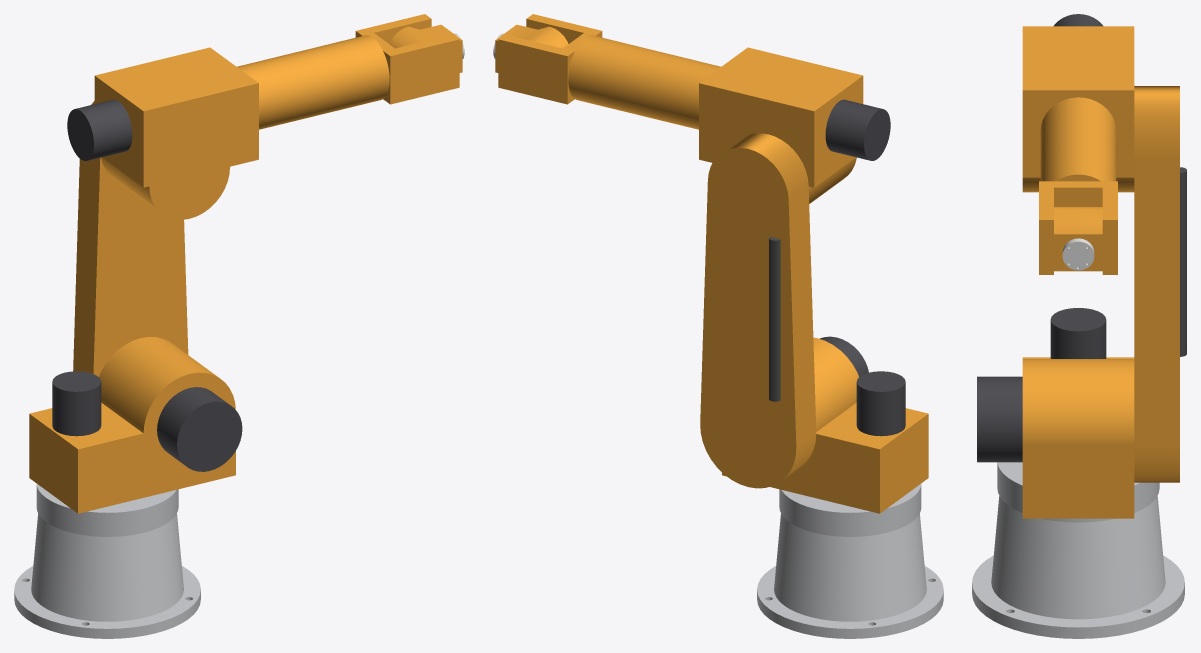
The model's file is robot_arm.glb.
The picture shows the model from 3 angles, left to right: view 1: azimuth 30°, elevation 25°; view 2: azimuth 150°, elevation 25°; view 3: azimuth 270°, elevation 25°; orthographic projection. The views are drawn at different scales.
Parts seen in each view (by area): view 1: elbow_housing, turret_casting, upper_arm, base_casting, forearm, j2_motor, wrist_fork, turret_bearing, j4_motor, j1_motor, wrist_housing; view 2: upper_arm, base_casting, elbow_housing, turret_casting, forearm, wrist_fork, turret_bearing, j4_motor, j1_motor, dress_pack, wrist_housing, j2_motor; view 3: base_casting, upper_arm, turret_casting, elbow_housing, forearm, wrist_fork, j2_motor, j1_motor, wrist_housing, turret_bearing, dress_pack, tool_flange (+1 smaller).
Part boxes in pixels (x1=…): elbow_housing: x1=94, y1=47, x2=258, y2=219; turret_casting: x1=29, y1=337, x2=235, y2=513; upper_arm: x1=73, y1=101, x2=188, y2=376; base_casting: x1=14, y1=513, x2=200, y2=638; forearm: x1=237, y1=35, x2=389, y2=129; j2_motor: x1=157, y1=387, x2=242, y2=471; wrist_fork: x1=355, y1=14, x2=459, y2=104; turret_bearing: x1=36, y1=484, x2=178, y2=536; j4_motor: x1=67, y1=99, x2=132, y2=160; j1_motor: x1=52, y1=371, x2=101, y2=436; wrist_housing: x1=389, y1=24, x2=462, y2=72; upper_arm: x1=700, y1=133, x2=816, y2=488; base_casting: x1=757, y1=513, x2=943, y2=638; elbow_housing: x1=699, y1=47, x2=863, y2=203; turret_casting: x1=722, y1=337, x2=928, y2=513; forearm: x1=568, y1=35, x2=720, y2=129; wrist_fork: x1=498, y1=14, x2=602, y2=104; turret_bearing: x1=779, y1=484, x2=921, y2=536; j4_motor: x1=825, y1=99, x2=890, y2=160; j1_motor: x1=856, y1=371, x2=905, y2=436; dress_pack: x1=769, y1=237, x2=780, y2=401; wrist_housing: x1=495, y1=24, x2=568, y2=72; j2_motor: x1=819, y1=336, x2=868, y2=376; base_casting: x1=972, y1=496, x2=1184, y2=638; upper_arm: x1=1134, y1=86, x2=1179, y2=482; turret_casting: x1=1022, y1=357, x2=1134, y2=518; elbow_housing: x1=1022, y1=26, x2=1134, y2=192; forearm: x1=1040, y1=97, x2=1116, y2=181; wrist_fork: x1=1039, y1=181, x2=1117, y2=274; j2_motor: x1=977, y1=376, x2=1022, y2=462; j1_motor: x1=1050, y1=308, x2=1106, y2=358; wrist_housing: x1=1054, y1=207, x2=1102, y2=271; turret_bearing: x1=997, y1=462, x2=1159, y2=522; dress_pack: x1=1180, y1=167, x2=1186, y2=356; tool_flange: x1=1062, y1=238, x2=1094, y2=270.
Bounding box in the file's own units: 1.12 × 1.25 × 0.424.
